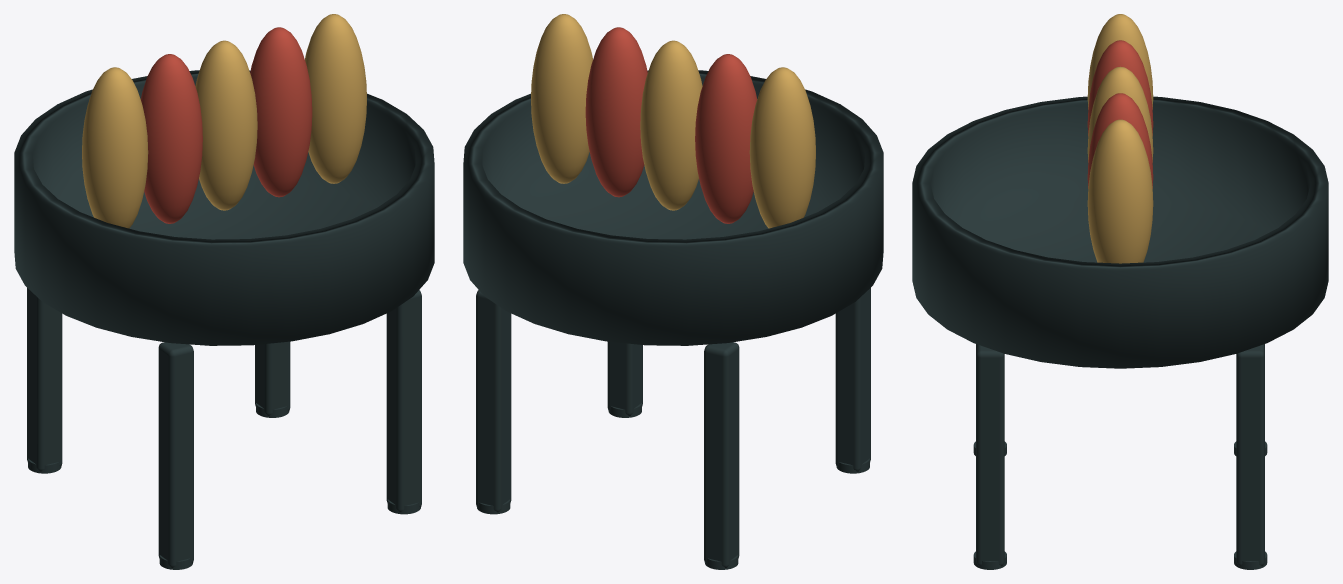
File: wp-brasero.glb
The picture shows the model from 3 angles, left to right: view 1: azimuth 30°, elevation 25°; view 2: azimuth 150°, elevation 25°; view 3: azimuth 270°, elevation 25°; orthographic projection.
Parts seen in each view (by area): view 1: wp-brasero; view 2: wp-brasero; view 3: wp-brasero.
Part boxes in pixels (left/top/right/bottom): wp-brasero: left=14, top=14, right=434, bottom=569; wp-brasero: left=463, top=14, right=883, bottom=569; wp-brasero: left=912, top=14, right=1328, bottom=569.
Size of the model in its own units: 0.6 by 0.7 by 0.6.
